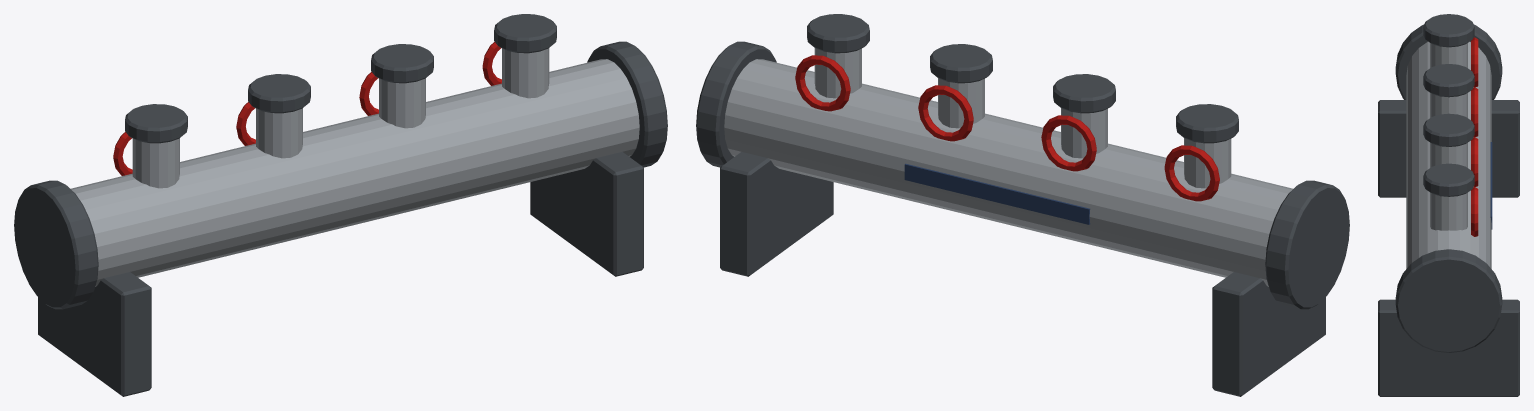
Rendered from pipe_header.glb.
3 views of the same model, side by side, from view 1: azimuth 30°, elevation 25°; view 2: azimuth 150°, elevation 25°; view 3: azimuth 270°, elevation 25° (orthographic). The views are drawn at different scales.
Parts seen in each view (by area): view 1: pipe_header; view 2: pipe_header; view 3: pipe_header.
Part boxes in pixels (left/top/right/bottom): pipe_header: left=14, top=14, right=667, bottom=396; pipe_header: left=696, top=14, right=1349, bottom=396; pipe_header: left=1378, top=14, right=1519, bottom=396.
Bounding box in the file's own units: 1.6 × 0.6 × 0.4.
